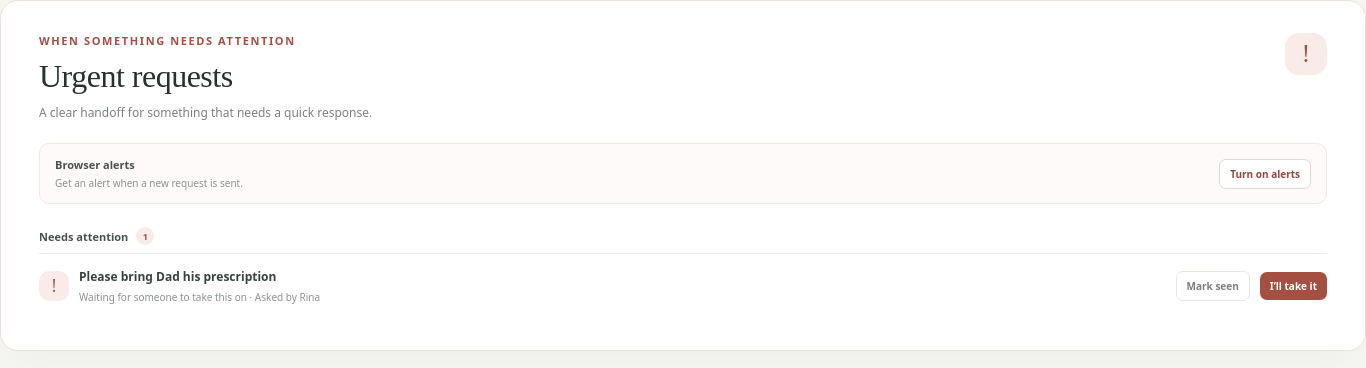
UrgentRequestsPanel › only requests browser notification permission after the user opts in
The image size is (1366, 368).
What coordinates should you click on to do the following:
click the button "Turn on alerts"
I would click on:
 (1265, 174)
Its box is [1219,159,1311,189].
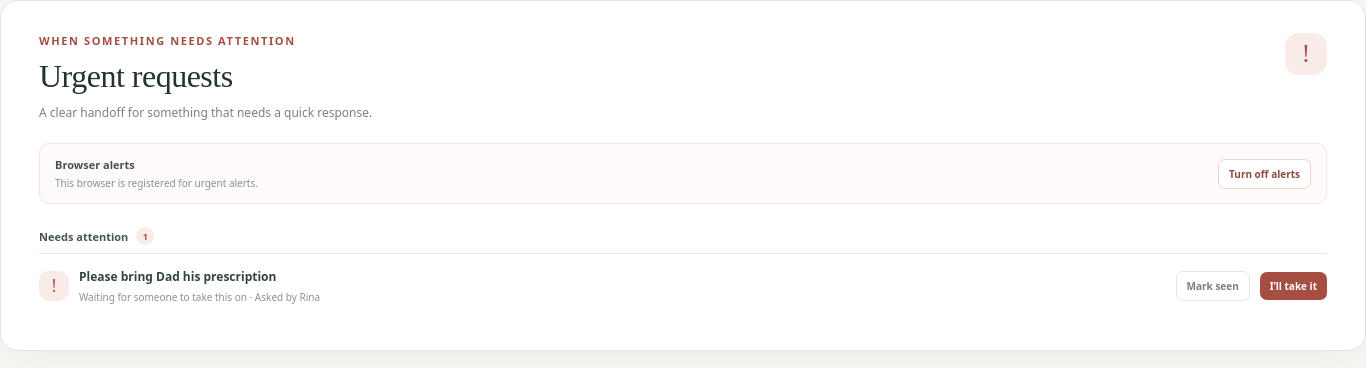
Now the button "Turn off alerts" is shown, box [1218,159,1311,189]
